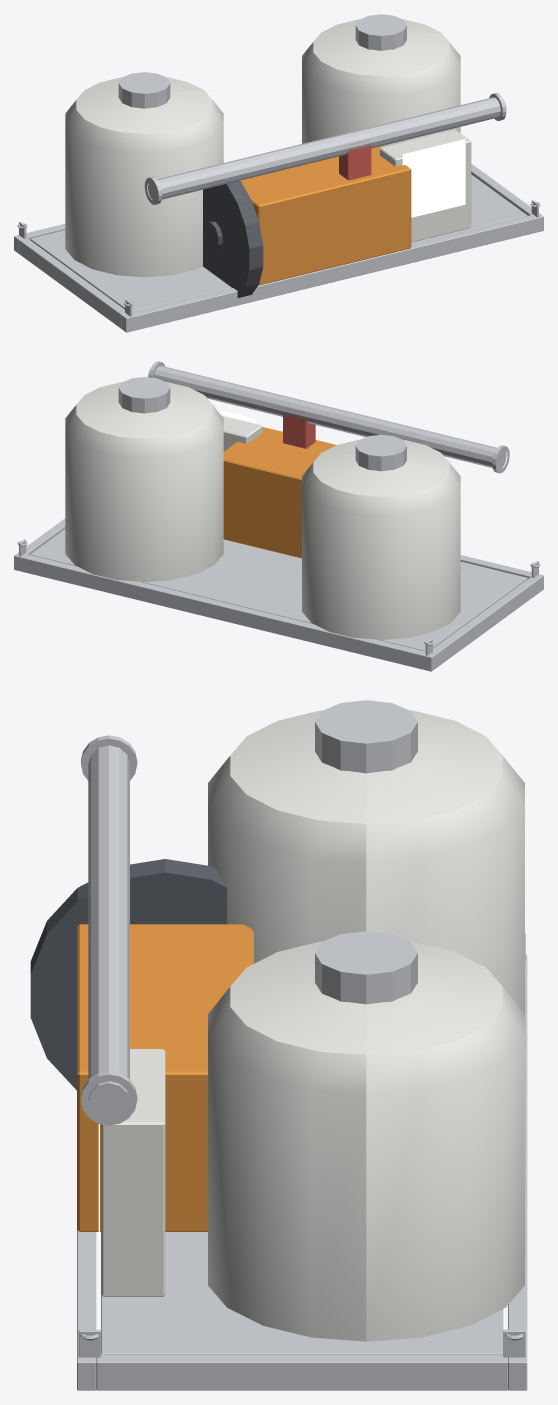
Rendered from offshore-oil-rig-and-platform-cement-unit-64b3bb57__37026.glb.
3 views of the same model, one above another, from view 1: azimuth 30°, elevation 25°; view 2: azimuth 150°, elevation 25°; view 3: azimuth 270°, elevation 25° (orthographic). The views are drawn at different scales.
Visible parts, largest first — view 1: cement-unit, flywheel-cement; view 2: cement-unit; view 3: cement-unit, flywheel-cement.
Part boxes in pixels (x1,y1,x2,y2): cement-unit: (14,14,543,332); flywheel-cement: (203,180,263,297); cement-unit: (14,361,543,671); cement-unit: (77,700,527,1390); flywheel-cement: (30,859,226,1090).
Bounding box in the file's own units: 6 × 2.5 × 3.09.
